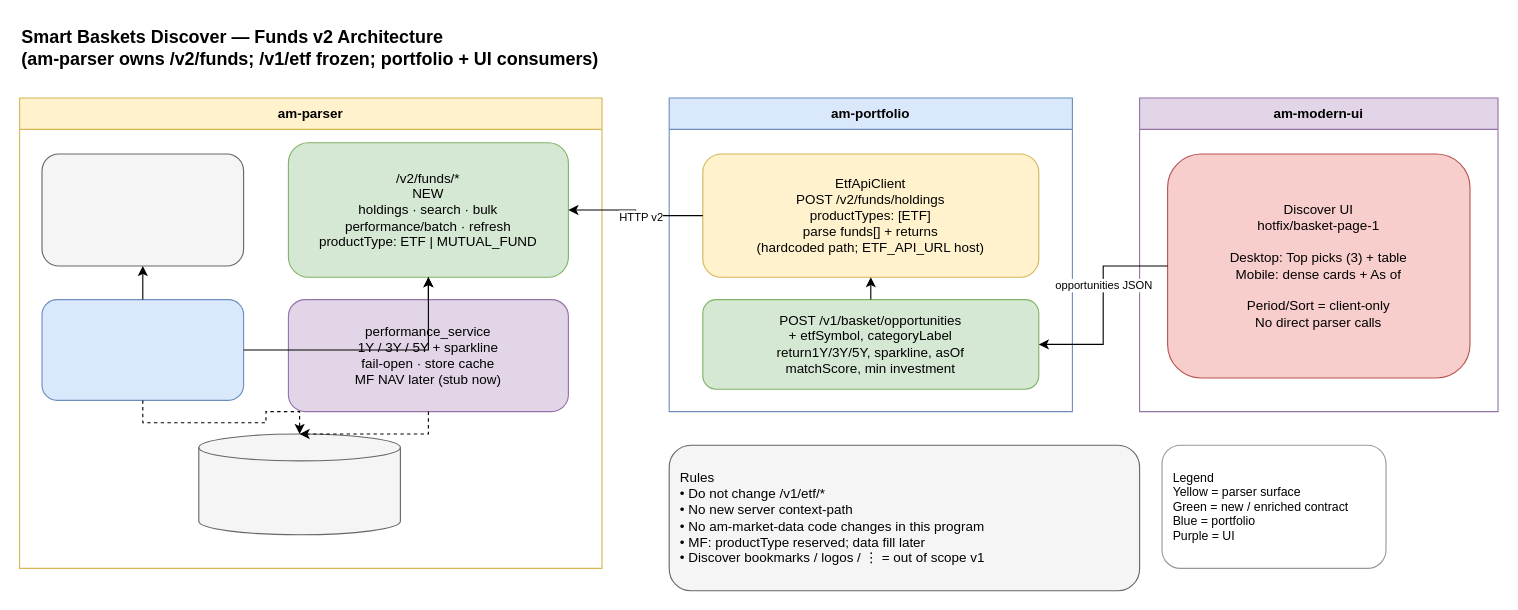
This 1518x610 diagram has some shape labels left out. The centre of each missing label's shape, as x and y in pixels:
/v1/etf/* FROZEN (holdings, search, bulk) No performance fields: pixel 142 209
Mongo etfs / etf_holdings + performance fields: pixel 299 484
Shared domain lookup / holdings services (ETF books): pixel 142 349
